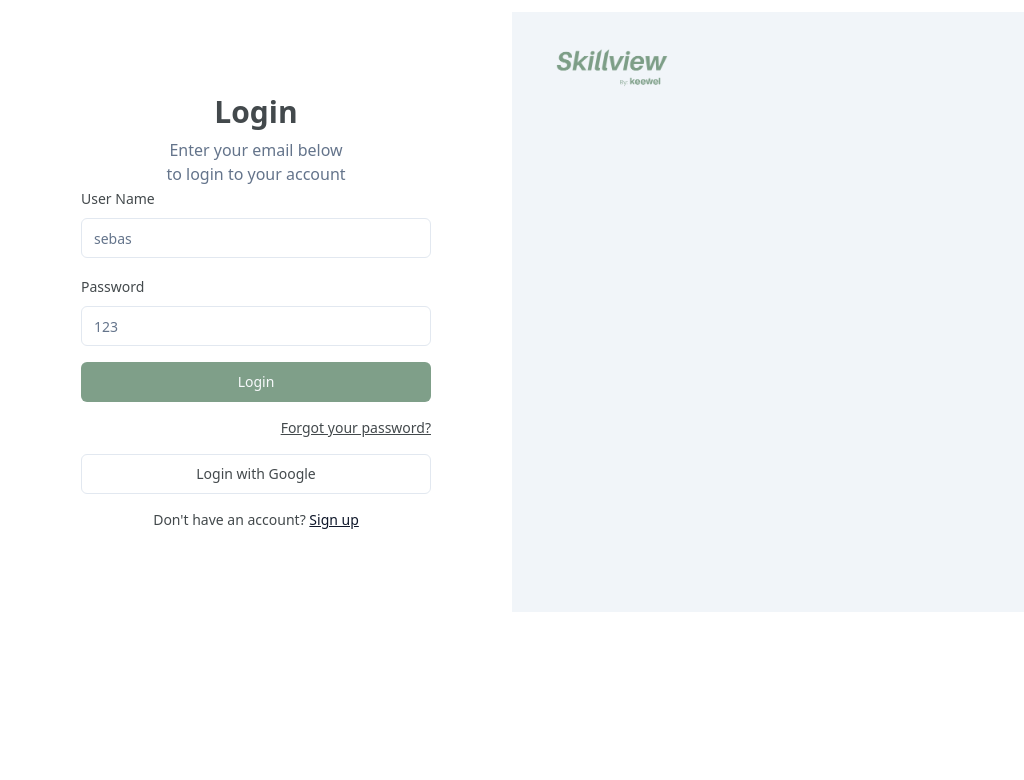
Scenario: login › should show error messages if username and password are less than 3 characters
This screenshot has width=1024, height=780.
Click the button "Login". click: coordinates (256, 382)
box: left=81, top=362, right=431, bottom=402
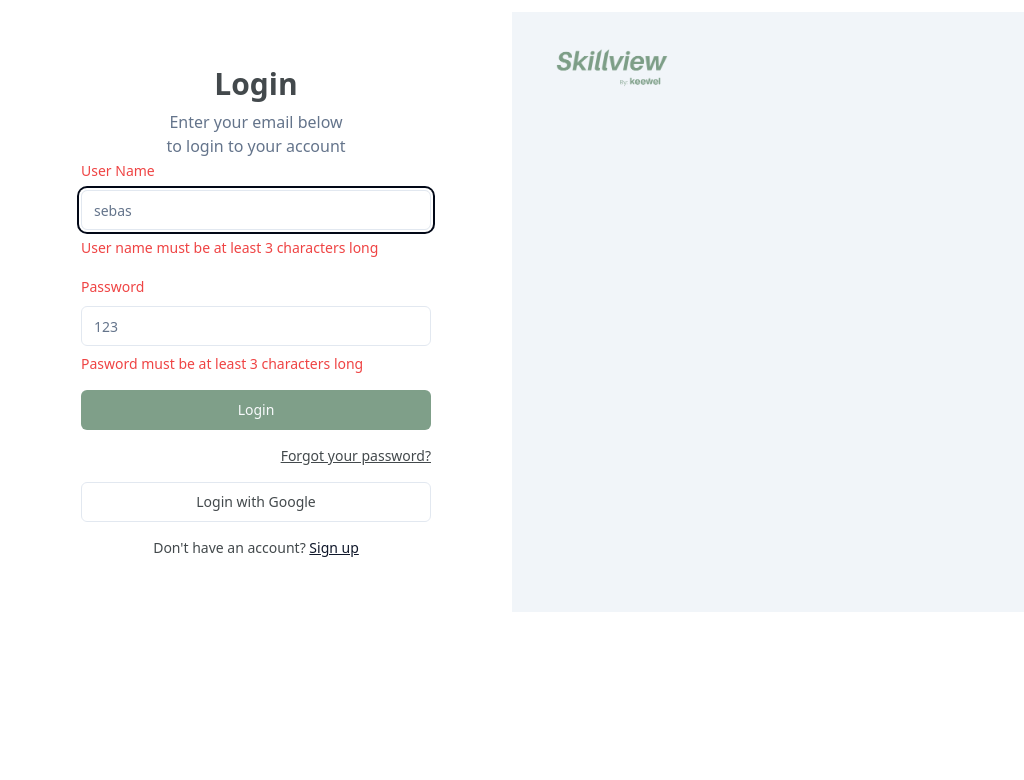
Result: the number of messages is 2 at left=81, top=238, right=378, bottom=257; left=81, top=354, right=363, bottom=373
